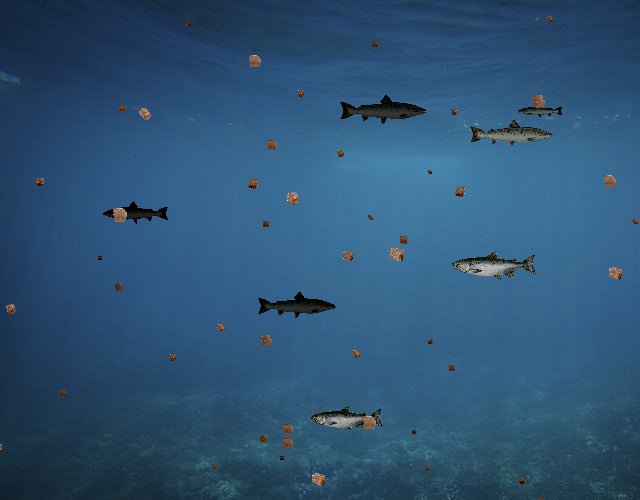Fish: (338, 94, 428, 126), (468, 118, 554, 149), (452, 250, 538, 281), (257, 291, 338, 320), (311, 406, 384, 432), (102, 200, 170, 225), (517, 103, 564, 120)
Pellet: (104, 200, 134, 229), (241, 47, 268, 74), (0, 298, 22, 320), (242, 173, 264, 195), (346, 345, 365, 364), (394, 231, 412, 249), (514, 474, 528, 488), (368, 37, 382, 51), (424, 335, 437, 348), (181, 18, 194, 31), (208, 462, 218, 472)
